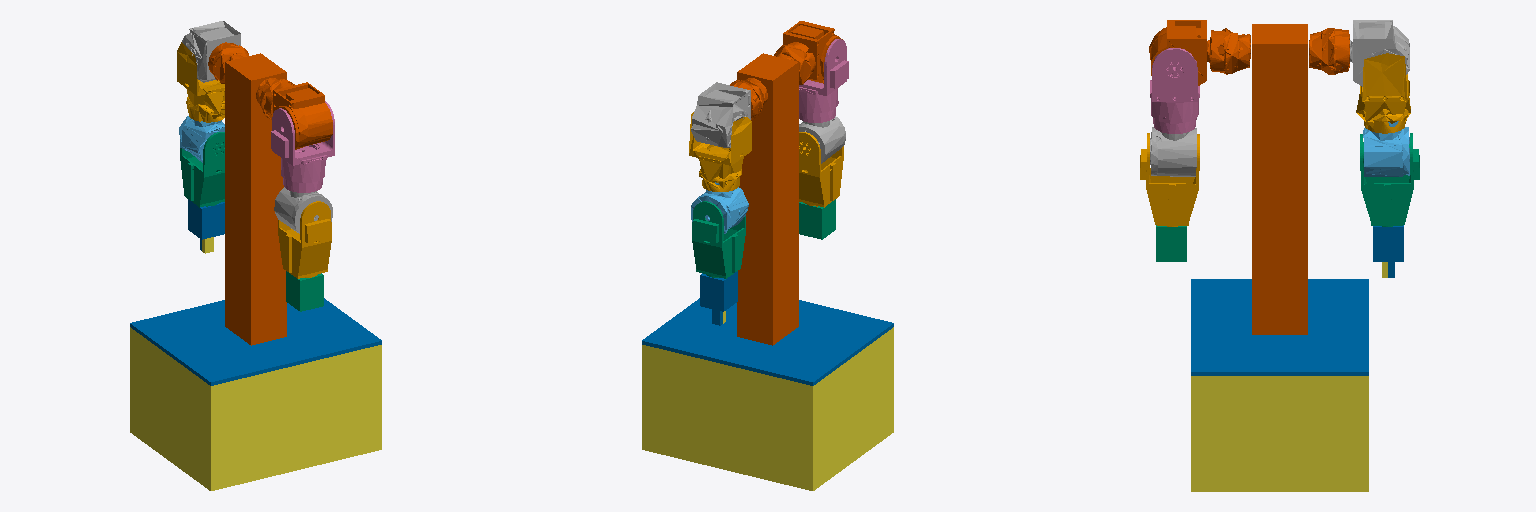
The robot description file, URDF, robot "b1_v1_isaac_pick":
<?xml version="1.0"?>
<!-- 자동 생성: b1/models/v1/scripts/build_v1.py (week05, 박종진) — 손으로 고치지 말 것. 값: assumptions_b1.json -->
<robot name="b1_v1_isaac_pick">
  <mujoco>
    <compiler strippath="false" fusestatic="false" discardvisual="false" balanceinertia="false"/>
  </mujoco>

  <link name="odom"/>
  <joint name="base_x_joint" type="prismatic">
    <parent link="odom"/>
    <child link="base_x_link"/>
    <origin xyz="0 0 0" rpy="0 0 0"/>
    <axis xyz="1 0 0"/>
    <limit lower="-100" upper="100" effort="2000" velocity="1.5"/>
  </joint>
  <link name="base_x_link">
    <inertial>
      <mass value="0.001"/>
      <inertia ixx="1e-7" iyy="1e-7" izz="1e-7" ixy="0" ixz="0" iyz="0"/>
    </inertial>
  </link>
  <joint name="base_y_joint" type="prismatic">
    <parent link="base_x_link"/>
    <child link="base_y_link"/>
    <origin xyz="0 0 0" rpy="0 0 0"/>
    <axis xyz="0 1 0"/>
    <limit lower="-100" upper="100" effort="2000" velocity="1.5"/>
  </joint>
  <link name="base_y_link">
    <inertial>
      <mass value="0.001"/>
      <inertia ixx="1e-7" iyy="1e-7" izz="1e-7" ixy="0" ixz="0" iyz="0"/>
    </inertial>
  </link>
  <joint name="base_yaw_joint" type="continuous">
    <parent link="base_y_link"/>
    <child link="base_link"/>
    <origin xyz="0 0 0" rpy="0 0 0"/>
    <axis xyz="0 0 1"/>
    <limit effort="500" velocity="1.5708"/>
  </joint>
  <link name="base_link">
    <inertial>
      <origin xyz="0 0 0.219" rpy="0 0 0"/>
      <mass value="30"/>
      <inertia ixx="0.84257" iyy="1.11505" izz="1.3864" ixy="0" ixz="0" iyz="0"/>
    </inertial>
    <visual name="base_lower_visual">
      <origin xyz="0 0 0.219"/>
      <geometry><box size="0.576 0.472 0.338"/></geometry>
    </visual>
    <collision name="base_lower_collision">
      <origin xyz="0 0 0.219"/>
      <geometry><box size="0.576 0.472 0.338"/></geometry>
    </collision>
  </link>
  <joint name="base_plate_joint" type="fixed">
    <parent link="base_link"/>
    <child link="base_plate_link"/>
    <origin xyz="0 0 0.394" rpy="0 0 0"/>
  </joint>
  <link name="base_plate_link">
    <inertial>
      <origin xyz="0 0 0" rpy="0 0 0"/>
      <mass value="3.69"/>
      <inertia ixx="0.0685504" iyy="0.102065" izz="0.170527" ixy="0" ixz="0" iyz="0"/>
    </inertial>
    <visual name="base_plate_visual">
      <origin xyz="0 0 0"/>
      <geometry><box size="0.576 0.472 0.012"/></geometry>
    </visual>
    <collision name="base_plate_collision">
      <origin xyz="0 0 0"/>
      <geometry><box size="0.576 0.472 0.012"/></geometry>
    </collision>
  </link>

  <joint name="torso_fixed_joint" type="fixed">
    <parent link="base_link"/>
    <child link="torso_link"/>
    <origin xyz="0 0 1.2" rpy="0 0 0"/>
  </joint>
  <link name="torso_link">
    <inertial>
      <origin xyz="4.68203e-05 2.02102e-06 -0.248686" rpy="0 0 0"/>
      <mass value="12.0634"/>
      <inertia ixx="0.950137" iyy="0.876333" izz="0.0991423" ixy="-2.24738e-09" ixz="-0.000140461" iyz="0.000101804"/>
    </inertial>
    <visual name="torso_actuators_visual">
      <geometry><mesh filename="../meshes/visual/torso_link_visual.stl"/></geometry>
    </visual>
    <collision name="torso_actuators_collision">
      <geometry><mesh filename="../meshes/collision/torso_link_collision.stl"/></geometry>
    </collision>
    <visual name="torso_box_visual">
      <origin xyz="0 0 -0.375"/>
      <geometry><box size="0.12 0.15 0.85"/></geometry>
    </visual>
    <collision name="torso_box_collision">
      <origin xyz="0 0 -0.375"/>
      <geometry><box size="0.12 0.15 0.85"/></geometry>
    </collision>
  </link>
  <joint name="cad_frame_joint" type="fixed">
    <parent link="torso_link"/>
    <child link="cad_frame"/>
    <origin xyz="0 0.11815 0" rpy="1.5708 0 1.5708"/>
  </joint>
  <link name="cad_frame">
    <inertial>
      <mass value="0.001"/>
      <inertia ixx="1e-7" iyy="1e-7" izz="1e-7" ixy="0" ixz="0" iyz="0"/>
    </inertial>
  </link>

  <joint name="left_shoulder_pitch_joint" type="revolute">
    <parent link="torso_link"/>
    <child link="left_shoulder_pitch_link"/>
    <origin xyz="0 0.16975 0" rpy="0 0 0"/>
    <axis xyz="0 1 0"/>
    <limit lower="-3.0" upper="3.0" effort="381.7" velocity="3.0"/>
    <dynamics damping="0.5" friction="0.0"/>
  </joint>
  <link name="left_shoulder_pitch_link">
    <inertial>
      <origin xyz="0.000163 0.082815 -0.011301" rpy="0 0 0"/>
      <mass value="4.39632"/>
      <inertia ixx="0.0166562" iyy="0.0114135" izz="0.0147659" ixy="0.000299613" ixz="-0.000220698" iyz="0.000988489"/>
    </inertial>
    <visual name="left_shoulder_pitch_visual">
      <geometry><mesh filename="../meshes/visual/left_shoulder_pitch_link_visual.stl"/></geometry>
    </visual>
    <collision name="left_shoulder_pitch_collision">
      <geometry><mesh filename="../meshes/collision/left_shoulder_pitch_link_collision.stl"/></geometry>
    </collision>
  </link>
  <joint name="left_shoulder_roll_joint" type="revolute">
    <parent link="left_shoulder_pitch_link"/>
    <child link="left_shoulder_roll_link"/>
    <origin xyz="0 0.1079 -0.02" rpy="0 0 0"/>
    <axis xyz="1 0 0"/>
    <limit lower="-0.28" upper="1.5" effort="381.7" velocity="3.0"/>
    <dynamics damping="0.5" friction="0.0"/>
  </joint>
  <link name="left_shoulder_roll_link">
    <inertial>
      <origin xyz="-0.000215 0.000139 -0.095874" rpy="0 0 0"/>
      <mass value="4.1696"/>
      <inertia ixx="0.0208169" iyy="0.0247167" izz="0.0122861" ixy="3.651e-06" ixz="-0.00102148" iyz="-3.691e-06"/>
    </inertial>
    <visual name="left_shoulder_roll_visual">
      <geometry><mesh filename="../meshes/visual/left_shoulder_roll_link_visual.stl"/></geometry>
    </visual>
    <collision name="left_shoulder_roll_collision">
      <geometry><mesh filename="../meshes/collision/left_shoulder_roll_link_collision.stl"/></geometry>
    </collision>
  </link>
  <joint name="left_shoulder_yaw_joint" type="revolute">
    <parent link="left_shoulder_roll_link"/>
    <child link="left_shoulder_yaw_link"/>
    <origin xyz="0 0 -0.1823" rpy="0 0 -1.5708"/>
    <axis xyz="0 0 1"/>
    <limit lower="-2.5" upper="2.5" effort="381.7" velocity="3.0"/>
    <dynamics damping="0.5" friction="0.0"/>
  </joint>
  <link name="left_shoulder_yaw_link">
    <inertial>
      <origin xyz="-0.00379999 -0.001658 -0.077168" rpy="0 0 0"/>
      <mass value="3.33643"/>
      <inertia ixx="0.00984427" iyy="0.0100491" izz="0.00641762" ixy="-1.2339e-05" ixz="-0.000184265" iyz="-1.229e-06"/>
    </inertial>
    <visual name="left_shoulder_yaw_visual">
      <geometry><mesh filename="../meshes/visual/left_shoulder_yaw_link_visual.stl"/></geometry>
    </visual>
    <collision name="left_shoulder_yaw_collision">
      <geometry><mesh filename="../meshes/collision/left_shoulder_yaw_link_collision.stl"/></geometry>
    </collision>
  </link>
  <joint name="left_elbow_joint" type="revolute">
    <parent link="left_shoulder_yaw_link"/>
    <child link="left_elbow_link"/>
    <origin xyz="0 0 -0.0938" rpy="0 0 0"/>
    <axis xyz="1 0 0"/>
    <limit lower="-1.83" upper="1.83" effort="181.5" velocity="3.0"/>
    <dynamics damping="0.5" friction="0.0"/>
  </joint>
  <link name="left_elbow_link">
    <inertial>
      <origin xyz="-0.00366599 -0.001732 -0.079298" rpy="0 0 0"/>
      <mass value="2.26772"/>
      <inertia ixx="0.0144908" iyy="0.0178861" izz="0.00821005" ixy="-9.25e-07" ixz="-0.000888535" iyz="-8.733e-06"/>
    </inertial>
    <visual name="left_elbow_visual">
      <geometry><mesh filename="../meshes/visual/left_elbow_link_visual.stl"/></geometry>
    </visual>
    <collision name="left_elbow_collision">
      <geometry><mesh filename="../meshes/collision/left_elbow_link_collision.stl"/></geometry>
    </collision>
  </link>
  <joint name="left_tool0_joint" type="fixed">
    <parent link="left_elbow_link"/>
    <child link="left_tool0"/>
    <origin xyz="-0.009 0 -0.1989" rpy="0 0 0"/>
  </joint>
  <link name="left_tool0">
    <inertial>
      <mass value="0.001"/>
      <inertia ixx="1e-7" iyy="1e-7" izz="1e-7" ixy="0" ixz="0" iyz="0"/>
    </inertial>
  </link>
  <joint name="left_gripper_joint" type="fixed">
    <parent link="left_tool0"/>
    <child link="left_gripper_link"/>
    <origin xyz="0 0 0" rpy="0 0 0"/>
  </joint>
  <link name="left_gripper_link">
    <inertial>
      <origin xyz="0 0 -0.05" rpy="0 0 0"/>
      <mass value="0.5"/>
      <inertia ixx="0.000683333" iyy="0.000683333" izz="0.000533333" ixy="0" ixz="0" iyz="0"/>
    </inertial>
    <visual name="left_gripper_visual">
      <origin xyz="0 0 -0.05"/>
      <geometry><box size="0.08 0.08 0.1"/></geometry>
    </visual>
    <collision name="left_gripper_collision">
      <origin xyz="0 0 -0.05"/>
      <geometry><box size="0.08 0.08 0.1"/></geometry>
    </collision>
  </link>

  <joint name="right_shoulder_pitch_joint" type="revolute">
    <parent link="torso_link"/>
    <child link="right_shoulder_pitch_link"/>
    <origin xyz="0 -0.16975 0" rpy="0 0 0"/>
    <axis xyz="0 1 0"/>
    <limit lower="-3.0" upper="3.0" effort="381.7" velocity="3.0"/>
    <dynamics damping="0.5" friction="0.0"/>
  </joint>
  <link name="right_shoulder_pitch_link">
    <inertial>
      <origin xyz="0.000163 -0.082815 -0.011301" rpy="0 0 0"/>
      <mass value="4.39632"/>
      <inertia ixx="0.0166562" iyy="0.0114135" izz="0.0147659" ixy="-0.000299613" ixz="-0.000220698" iyz="-0.000988489"/>
    </inertial>
    <visual name="right_shoulder_pitch_visual">
      <geometry><mesh filename="../meshes/visual/right_shoulder_pitch_link_visual.stl"/></geometry>
    </visual>
    <collision name="right_shoulder_pitch_collision">
      <geometry><mesh filename="../meshes/collision/right_shoulder_pitch_link_collision.stl"/></geometry>
    </collision>
  </link>
  <joint name="right_shoulder_roll_joint" type="revolute">
    <parent link="right_shoulder_pitch_link"/>
    <child link="right_shoulder_roll_link"/>
    <origin xyz="0 -0.1079 -0.02" rpy="0 0 0"/>
    <axis xyz="-1 0 0"/>
    <limit lower="-0.28" upper="1.5" effort="381.7" velocity="3.0"/>
    <dynamics damping="0.5" friction="0.0"/>
  </joint>
  <link name="right_shoulder_roll_link">
    <inertial>
      <origin xyz="-0.000215 -0.000139 -0.095874" rpy="0 0 0"/>
      <mass value="4.1696"/>
      <inertia ixx="0.0208169" iyy="0.0247167" izz="0.0122861" ixy="-3.651e-06" ixz="-0.00102148" iyz="3.691e-06"/>
    </inertial>
    <visual name="right_shoulder_roll_visual">
      <geometry><mesh filename="../meshes/visual/right_shoulder_roll_link_visual.stl"/></geometry>
    </visual>
    <collision name="right_shoulder_roll_collision">
      <geometry><mesh filename="../meshes/collision/right_shoulder_roll_link_collision.stl"/></geometry>
    </collision>
  </link>
  <joint name="right_shoulder_yaw_joint" type="revolute">
    <parent link="right_shoulder_roll_link"/>
    <child link="right_shoulder_yaw_link"/>
    <origin xyz="0 0 -0.1823" rpy="0 0 1.5708"/>
    <axis xyz="0 0 -1"/>
    <limit lower="-2.5" upper="2.5" effort="381.7" velocity="3.0"/>
    <dynamics damping="0.5" friction="0.0"/>
  </joint>
  <link name="right_shoulder_yaw_link">
    <inertial>
      <origin xyz="-0.00379999 0.001658 -0.077168" rpy="0 0 0"/>
      <mass value="3.33643"/>
      <inertia ixx="0.00984427" iyy="0.0100491" izz="0.00641762" ixy="1.2339e-05" ixz="-0.000184265" iyz="1.229e-06"/>
    </inertial>
    <visual name="right_shoulder_yaw_visual">
      <geometry><mesh filename="../meshes/visual/right_shoulder_yaw_link_visual.stl"/></geometry>
    </visual>
    <collision name="right_shoulder_yaw_collision">
      <geometry><mesh filename="../meshes/collision/right_shoulder_yaw_link_collision.stl"/></geometry>
    </collision>
  </link>
  <joint name="right_elbow_joint" type="revolute">
    <parent link="right_shoulder_yaw_link"/>
    <child link="right_elbow_link"/>
    <origin xyz="0 0 -0.0938" rpy="0 0 0"/>
    <axis xyz="-1 0 0"/>
    <limit lower="-1.83" upper="1.83" effort="181.5" velocity="3.0"/>
    <dynamics damping="0.5" friction="0.0"/>
  </joint>
  <link name="right_elbow_link">
    <inertial>
      <origin xyz="-0.00366599 0.001732 -0.079298" rpy="0 0 0"/>
      <mass value="2.26772"/>
      <inertia ixx="0.0144908" iyy="0.0178861" izz="0.00821005" ixy="9.25e-07" ixz="-0.000888535" iyz="8.733e-06"/>
    </inertial>
    <visual name="right_elbow_visual">
      <geometry><mesh filename="../meshes/visual/right_elbow_link_visual.stl"/></geometry>
    </visual>
    <collision name="right_elbow_collision">
      <geometry><mesh filename="../meshes/collision/right_elbow_link_collision.stl"/></geometry>
    </collision>
  </link>
  <joint name="right_tool0_joint" type="fixed">
    <parent link="right_elbow_link"/>
    <child link="right_tool0"/>
    <origin xyz="-0.009 0 -0.1989" rpy="0 0 0"/>
  </joint>
  <link name="right_tool0">
    <inertial>
      <mass value="0.001"/>
      <inertia ixx="1e-7" iyy="1e-7" izz="1e-7" ixy="0" ixz="0" iyz="0"/>
    </inertial>
  </link>
  <joint name="right_gripper_joint" type="fixed">
    <parent link="right_tool0"/>
    <child link="right_gripper_link"/>
    <origin xyz="0 0 0" rpy="0 0 0"/>
  </joint>
  <link name="right_gripper_link">
    <inertial>
      <origin xyz="0 0 -0.05" rpy="0 0 0"/>
      <mass value="0.5"/>
      <inertia ixx="0.000683333" iyy="0.000683333" izz="0.000533333" ixy="0" ixz="0" iyz="0"/>
    </inertial>
    <visual name="right_gripper_visual">
      <origin xyz="0 0 -0.05"/>
      <geometry><box size="0.08 0.08 0.1"/></geometry>
    </visual>
    <collision name="right_gripper_collision">
      <origin xyz="0 0 -0.05"/>
      <geometry><box size="0.08 0.08 0.1"/></geometry>
    </collision>
  </link>


  <!-- week09 export_isaac_pick.py: 임시 평행 2지 손가락 (가정값 S15 = scenarios/pick_env.py GRIPPER). left_ee site 위치(gripper_link 아래 0.1 m)에 붙임 -->
  <joint name="left_finger_l_joint" type="prismatic">
    <parent link="left_gripper_link"/>
    <child link="left_finger_l"/>
    <origin xyz="0 0 -0.1" rpy="0 0 0"/>
    <axis xyz="1 0 0"/>
    <limit lower="0" upper="0.055" effort="40" velocity="0.2"/>
    <dynamics damping="8" friction="0"/>
  </joint>
  <link name="left_finger_l">
    <inertial>
      <origin xyz="0.008 0 -0.03" rpy="0 0 0"/>
      <mass value="0.2"/>
      <inertia ixx="2e-05" iyy="2e-05" izz="5e-06" ixy="0" ixz="0" iyz="0"/>
    </inertial>
    <visual name="left_pad_l_visual">
      <origin xyz="0.008 0 -0.03"/>
      <geometry><box size="0.016 0.03 0.06"/></geometry>
    </visual>
    <collision name="left_pad_l">
      <origin xyz="0.008 0 -0.03"/>
      <geometry><box size="0.016 0.03 0.06"/></geometry>
    </collision>
  </link>
  <joint name="left_finger_r_joint" type="prismatic">
    <parent link="left_gripper_link"/>
    <child link="left_finger_r"/>
    <origin xyz="0 0 -0.1" rpy="0 0 0"/>
    <axis xyz="-1 0 0"/>
    <limit lower="0" upper="0.055" effort="40" velocity="0.2"/>
    <dynamics damping="8" friction="0"/>
  </joint>
  <link name="left_finger_r">
    <inertial>
      <origin xyz="-0.008 0 -0.03" rpy="0 0 0"/>
      <mass value="0.2"/>
      <inertia ixx="2e-05" iyy="2e-05" izz="5e-06" ixy="0" ixz="0" iyz="0"/>
    </inertial>
    <visual name="left_pad_r_visual">
      <origin xyz="-0.008 0 -0.03"/>
      <geometry><box size="0.016 0.03 0.06"/></geometry>
    </visual>
    <collision name="left_pad_r">
      <origin xyz="-0.008 0 -0.03"/>
      <geometry><box size="0.016 0.03 0.06"/></geometry>
    </collision>
  </link>
</robot>

--- What the picture shows (computed from the rendered views, not written in the file) ---
The picture shows the robot from 3 angles, left to right: view 1: azimuth 30°, elevation 25°; view 2: azimuth 150°, elevation 25°; view 3: azimuth 270°, elevation 25°; orthographic projection.
Model b1_v1_isaac_pick with 21 links and 20 joints (8 revolute, 1 continuous, 4 prismatic, 7 fixed), rooted at odom, posed all joints at 0.
Visible links, largest first — view 1: base_link, torso_link, base_plate_link, right_elbow_link, right_shoulder_roll_link, right_shoulder_pitch_link, left_elbow_link, left_shoulder_roll_link, left_shoulder_pitch_link, right_shoulder_yaw_link, right_gripper_link, left_gripper_link (+1 smaller); view 2: base_link, torso_link, base_plate_link, left_elbow_link, left_shoulder_pitch_link, left_shoulder_roll_link, right_elbow_link, right_shoulder_roll_link, right_shoulder_pitch_link, left_gripper_link, left_shoulder_yaw_link, right_gripper_link (+1 smaller); view 3: torso_link, base_link, base_plate_link, right_shoulder_roll_link, left_shoulder_roll_link, left_elbow_link, right_elbow_link, left_shoulder_pitch_link, left_shoulder_yaw_link, right_shoulder_yaw_link, right_shoulder_pitch_link, left_gripper_link (+1 smaller).
Link boxes in pixels (bbox=[...]): base_link: bbox=[130, 327, 381, 490]; torso_link: bbox=[208, 42, 294, 345]; base_plate_link: bbox=[130, 298, 381, 385]; right_elbow_link: bbox=[278, 201, 331, 278]; right_shoulder_roll_link: bbox=[271, 101, 334, 192]; right_shoulder_pitch_link: bbox=[273, 82, 332, 149]; left_elbow_link: bbox=[180, 132, 224, 207]; left_shoulder_roll_link: bbox=[177, 42, 224, 122]; left_shoulder_pitch_link: bbox=[182, 21, 240, 82]; right_shoulder_yaw_link: bbox=[274, 187, 332, 233]; right_gripper_link: bbox=[286, 271, 323, 311]; left_gripper_link: bbox=[188, 199, 224, 239]; base_link: bbox=[642, 327, 893, 490]; torso_link: bbox=[730, 42, 815, 345]; base_plate_link: bbox=[642, 298, 893, 385]; left_elbow_link: bbox=[692, 201, 745, 278]; left_shoulder_pitch_link: bbox=[691, 82, 750, 147]; left_shoulder_roll_link: bbox=[689, 112, 751, 191]; right_elbow_link: bbox=[799, 132, 843, 207]; right_shoulder_roll_link: bbox=[799, 39, 848, 122]; right_shoulder_pitch_link: bbox=[783, 21, 842, 83]; left_gripper_link: bbox=[700, 271, 737, 311]; left_shoulder_yaw_link: bbox=[691, 182, 748, 233]; right_gripper_link: bbox=[799, 199, 835, 239]; torso_link: bbox=[1210, 24, 1349, 334]; base_link: bbox=[1191, 376, 1368, 491]; base_plate_link: bbox=[1191, 279, 1368, 375]; right_shoulder_roll_link: bbox=[1150, 48, 1199, 133]; left_shoulder_roll_link: bbox=[1356, 53, 1410, 133]; left_elbow_link: bbox=[1360, 133, 1419, 226]; right_elbow_link: bbox=[1140, 133, 1199, 226]; left_shoulder_pitch_link: bbox=[1342, 20, 1409, 86]; left_shoulder_yaw_link: bbox=[1363, 121, 1409, 176]; right_shoulder_yaw_link: bbox=[1150, 127, 1196, 176]; right_shoulder_pitch_link: bbox=[1149, 20, 1209, 85]; left_gripper_link: bbox=[1373, 225, 1403, 261].
Bounding box of the posed robot: 0.576 × 0.7392 × 1.22 m (x, y, z).
9 mesh visuals loaded from 9 distinct referenced files (9 binary STL).
